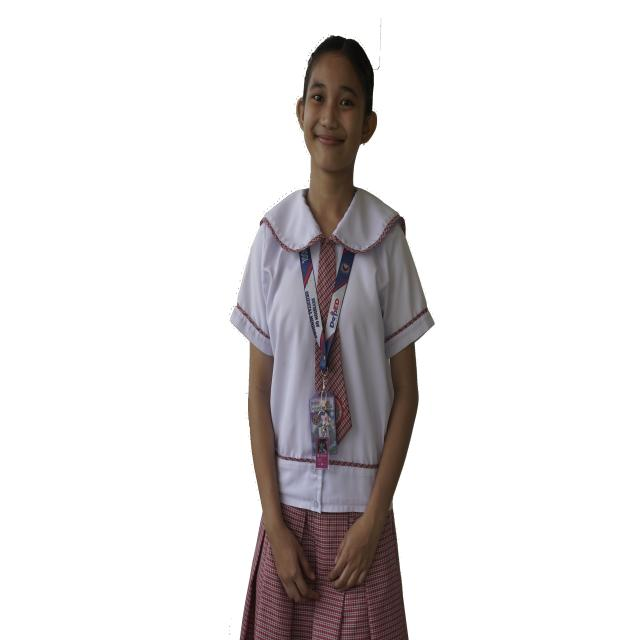id lace: (300, 251, 355, 370)
pologirl: (232, 186, 432, 516)
skirt: (240, 504, 408, 640)
